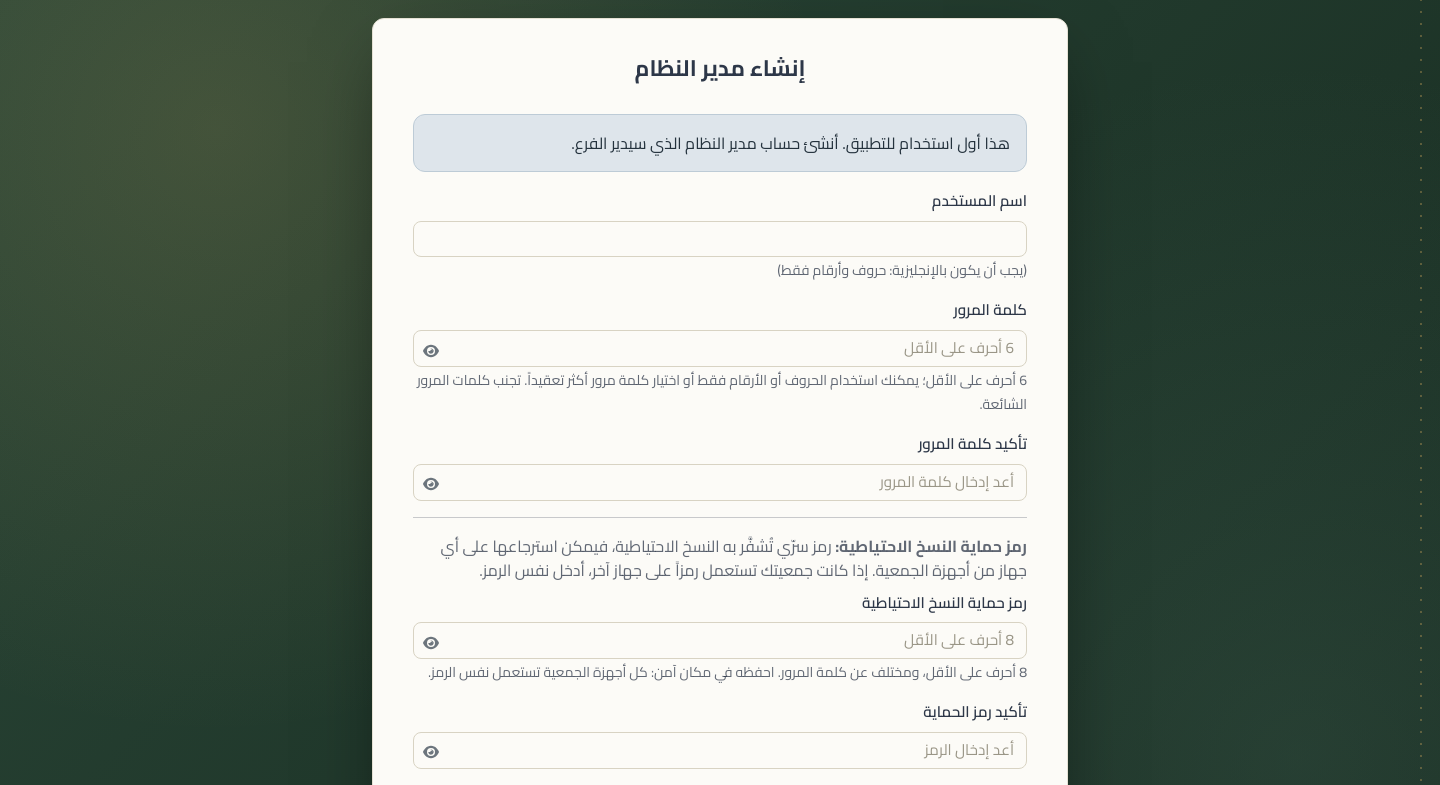
Test: LoginPage › should create the superadmin via the setup form and switch to login
This screenshot has width=1440, height=785.
In the field labelled "اسم المستخدم": [720, 239] box [413,221,1027,258], type "branch_admin"
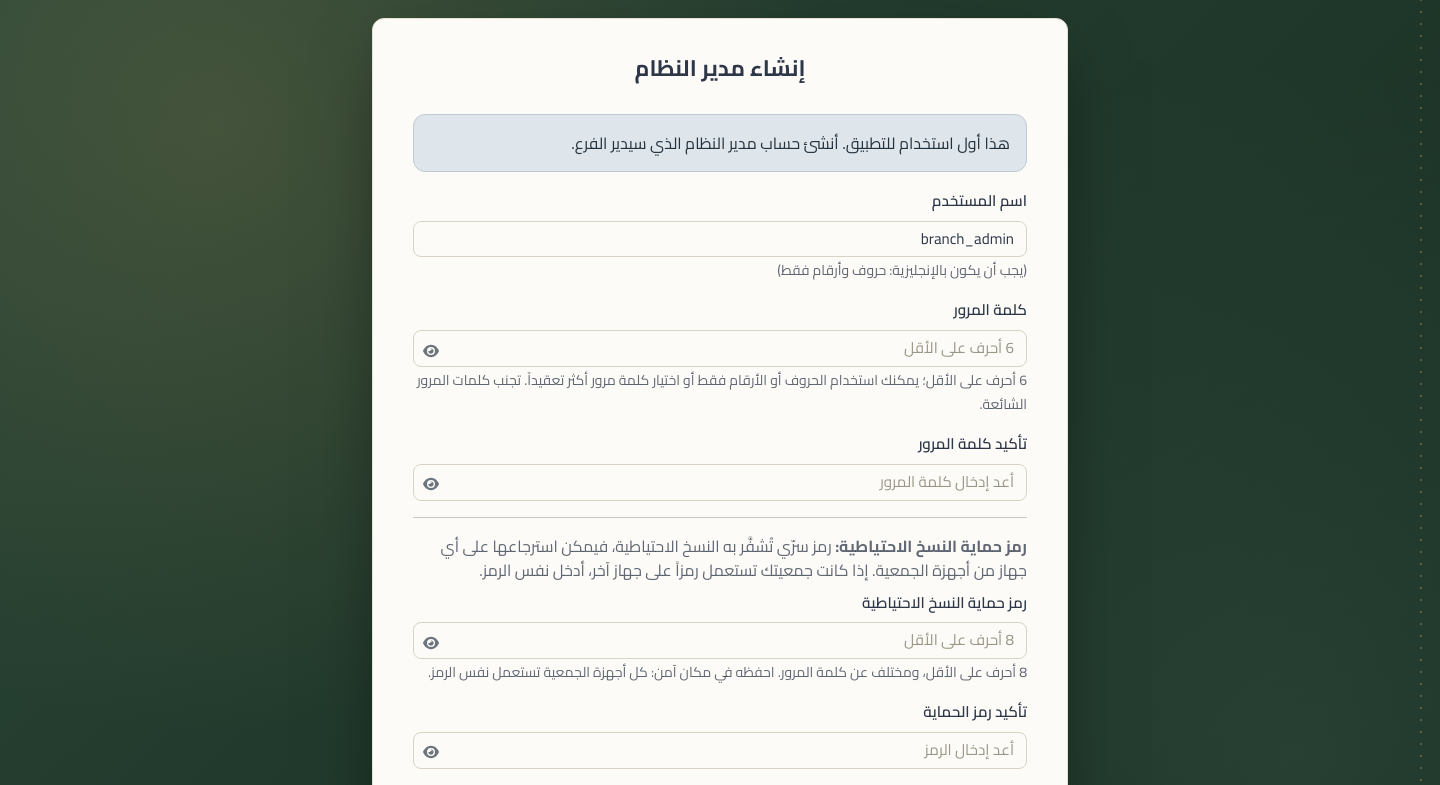
In the password field with placeholder "6 أحرف على الأقل": [720, 349] box [413,330,1027,367], type "Zitouna#Fes2026"
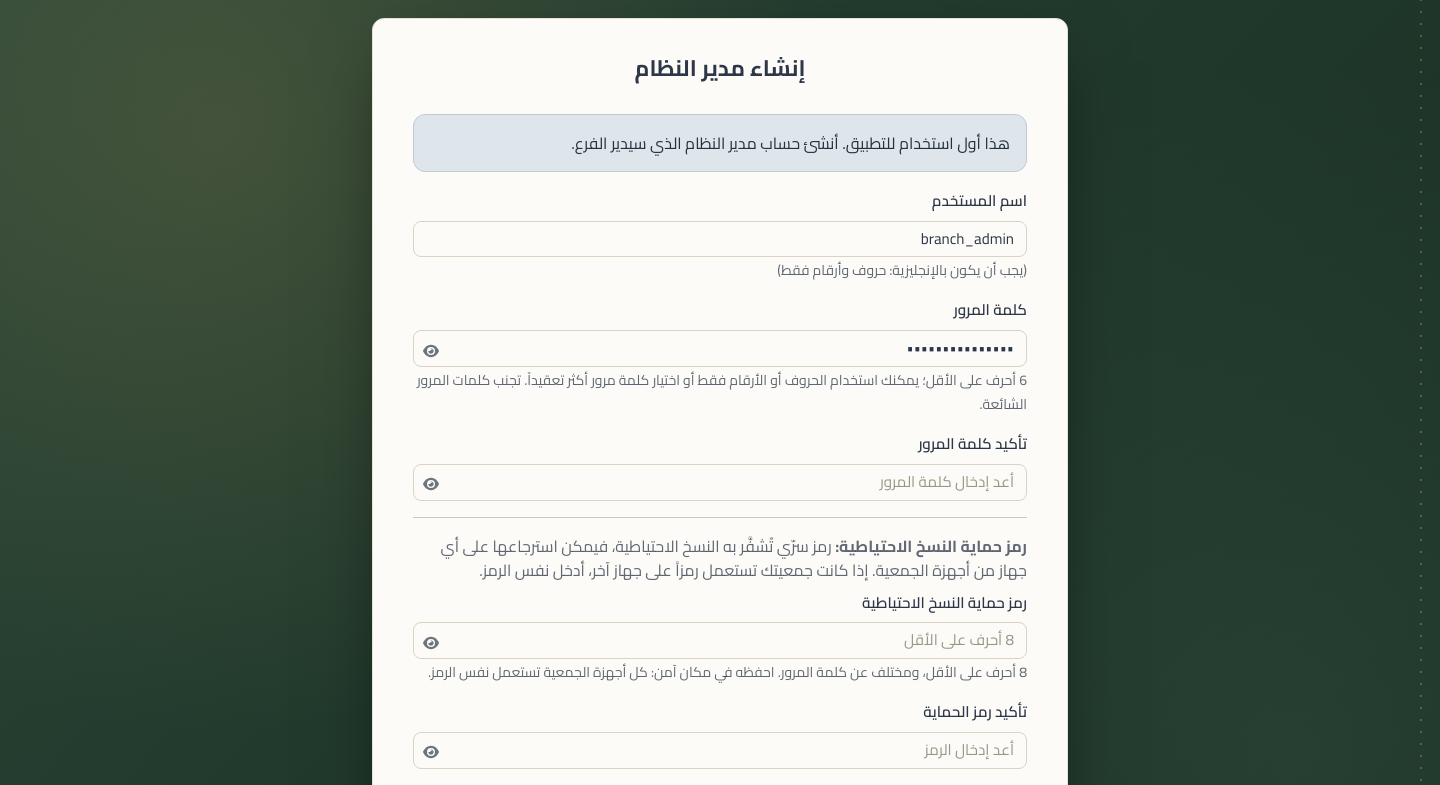
In the password field with placeholder "أعد إدخال كلمة المرور": [720, 482] box [413,464,1027,501], type "Zitouna#Fes2026"
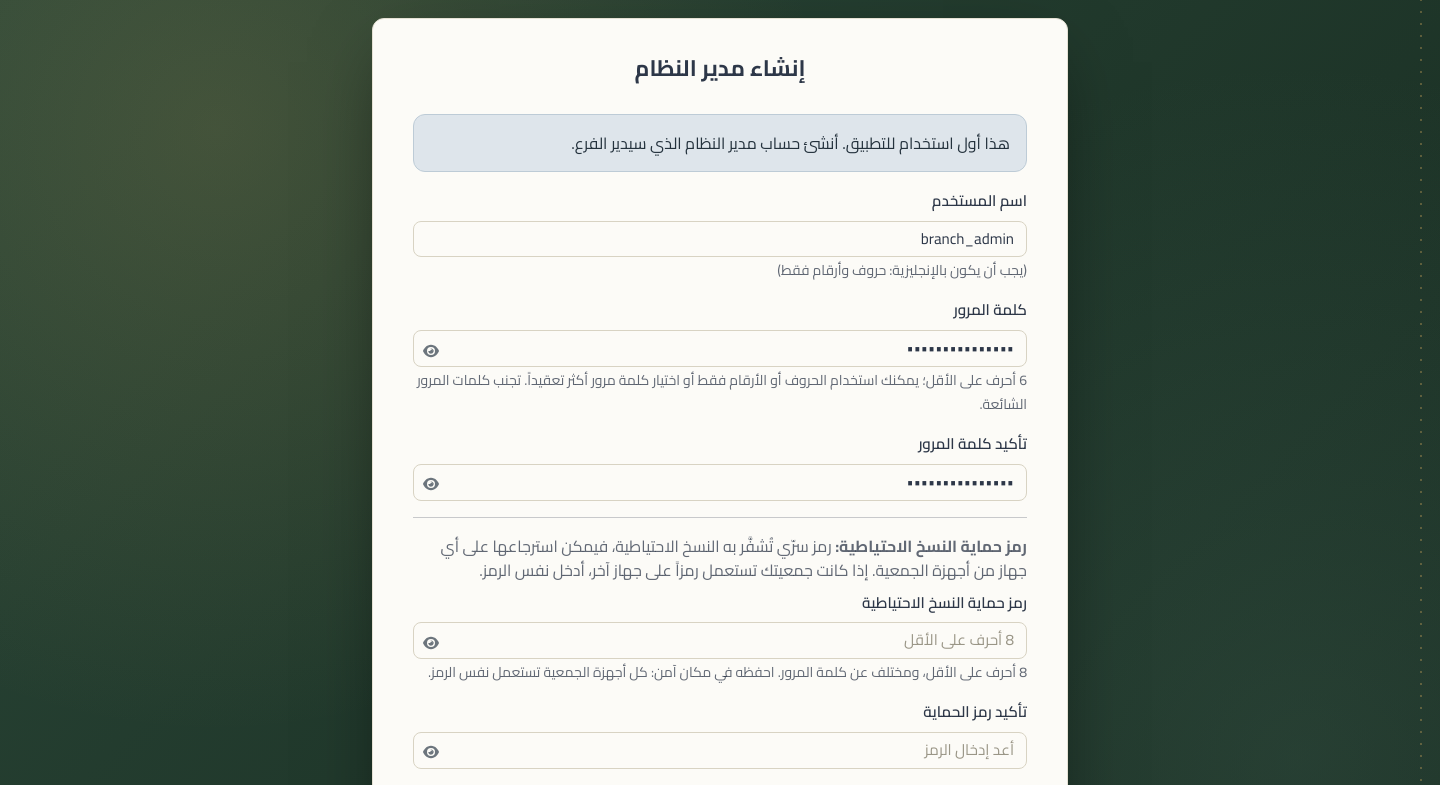
In the password field with placeholder "8 أحرف على الأقل": [720, 641] box [413,622,1027,659], type "branch-transfer-key"
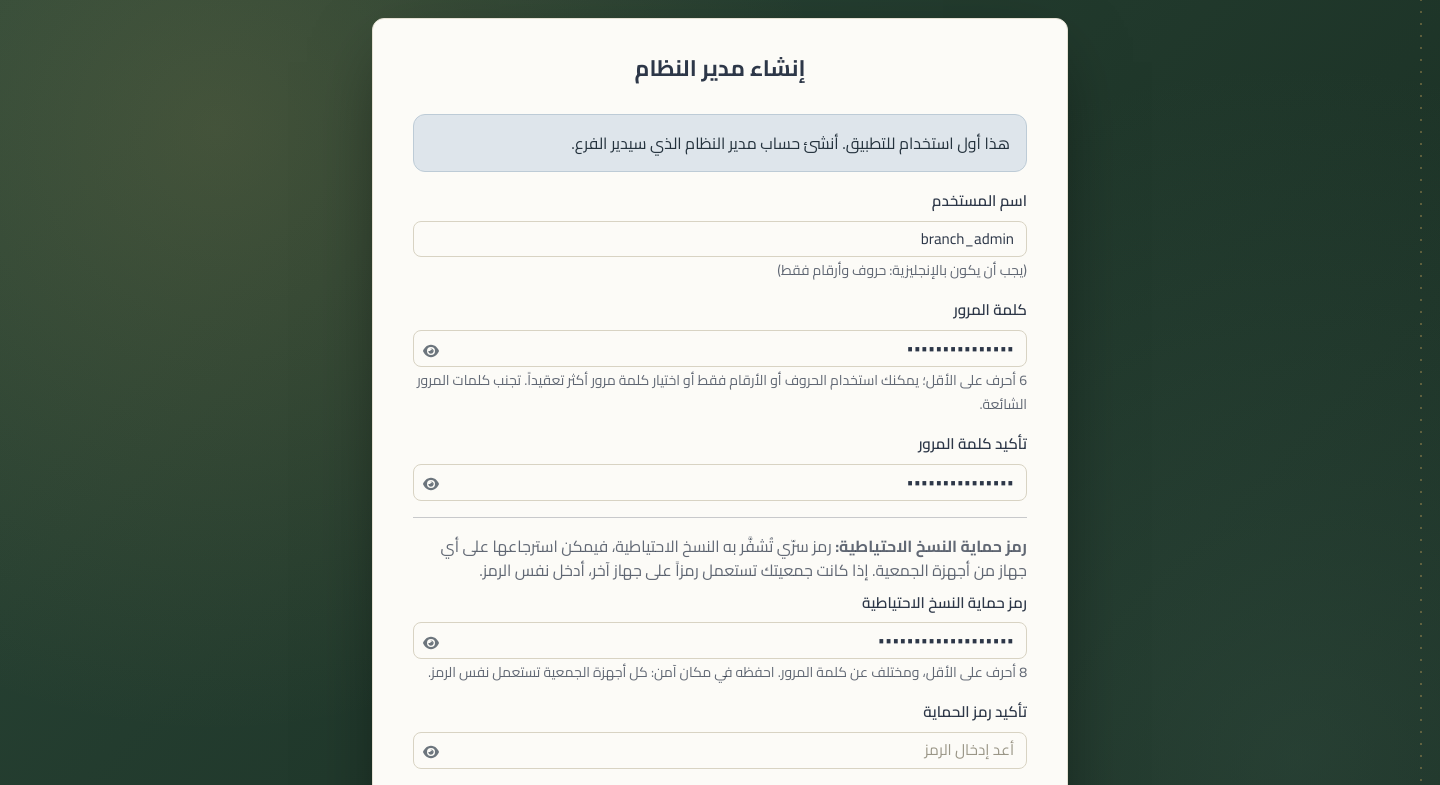
In the password field with placeholder "أعد إدخال الرمز": [720, 750] box [413,732,1027,769], type "branch-transfer-key"
(page scrolled)
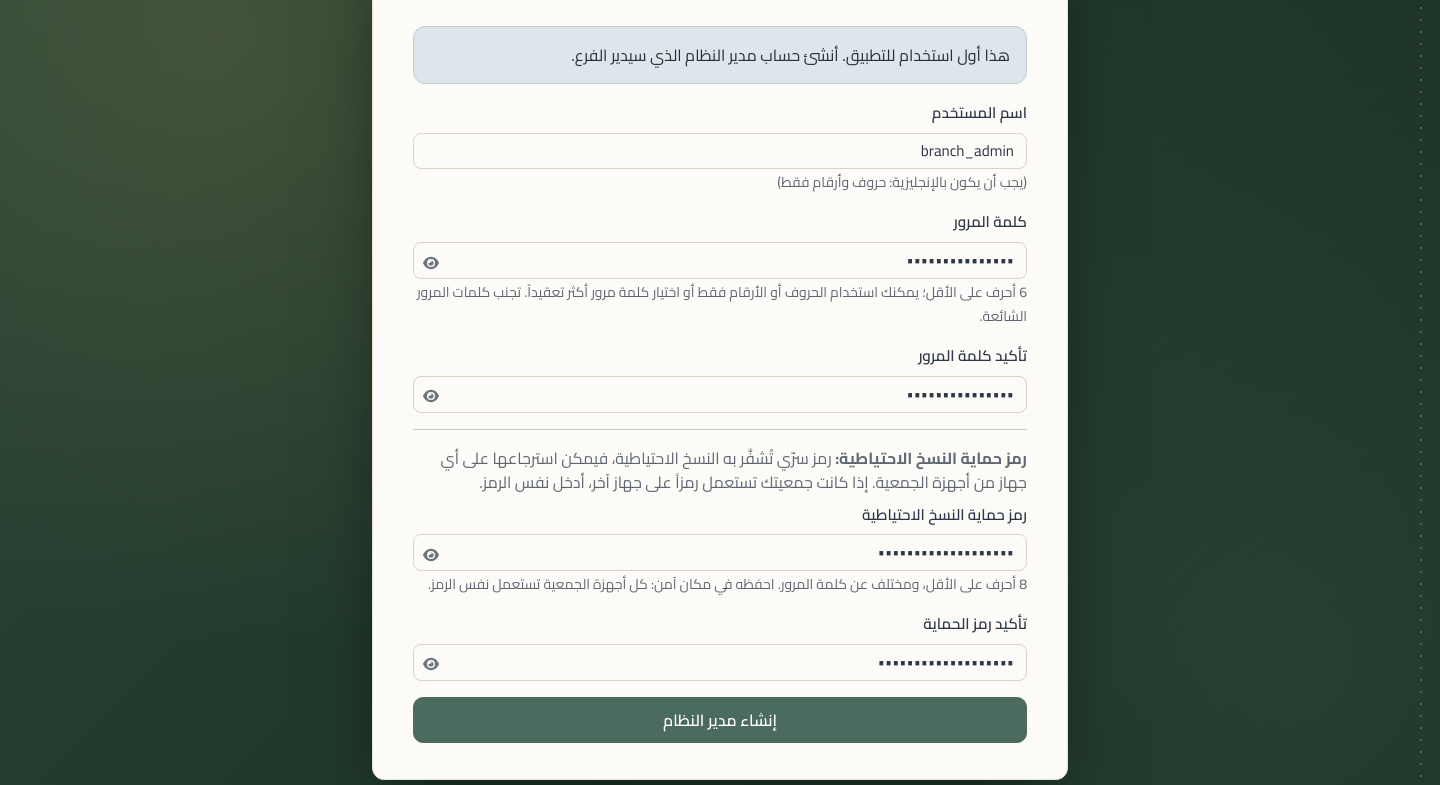
Click the button "إنشاء مدير النظام": [720, 720] box [413,697,1027,743]
(page scrolled)
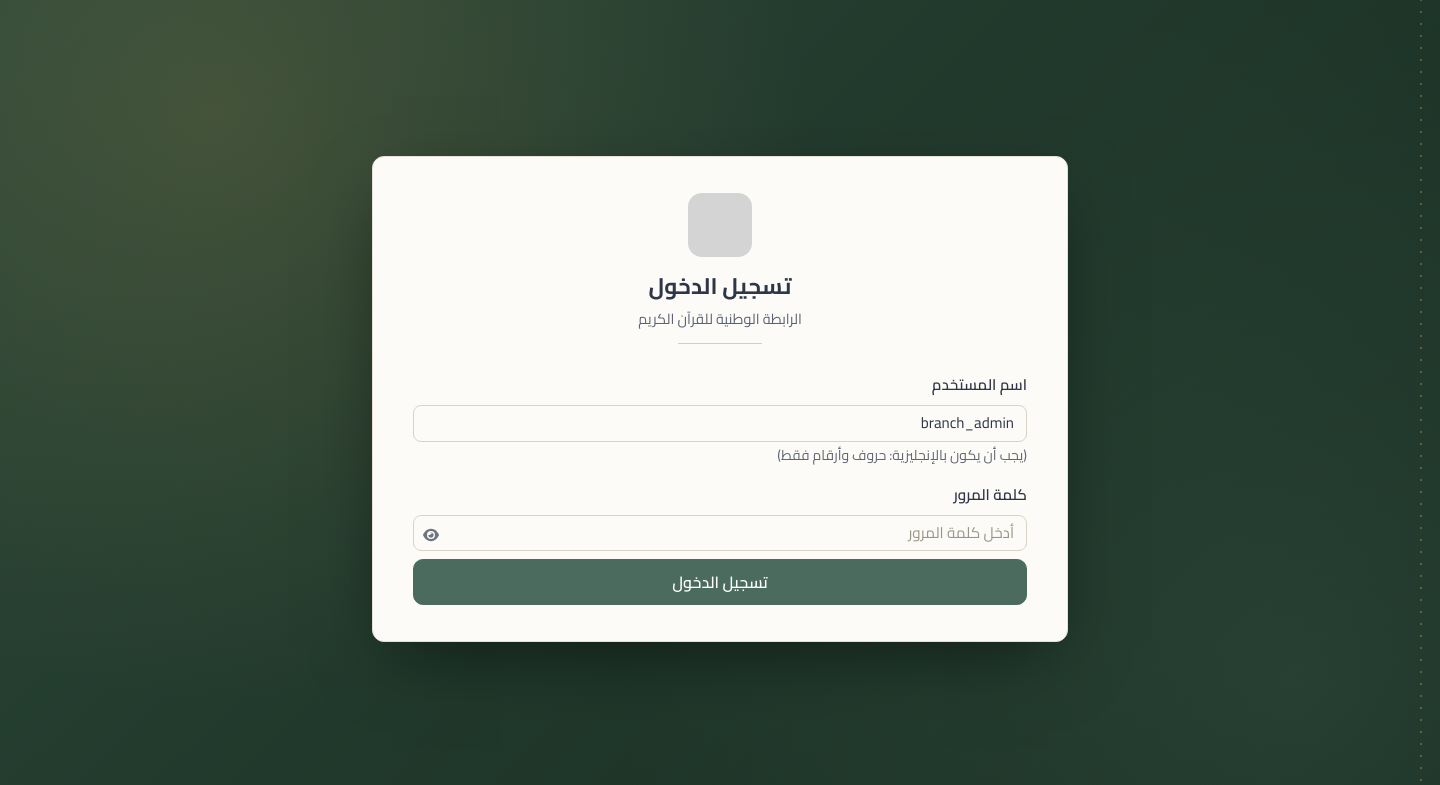
Check: the button "تسجيل الدخول" is shown, box [413,559,1027,605]
Check: the field labelled "اسم المستخدم" holds "branch_admin", box [413,405,1027,442]
